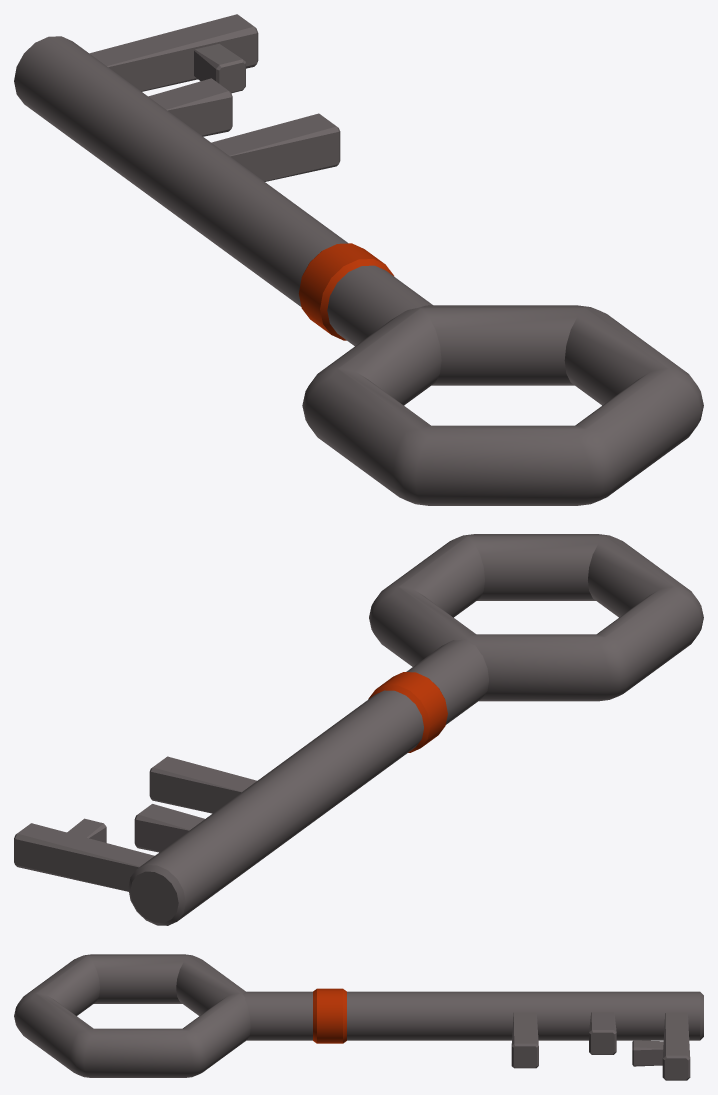
Rendered from klyuch.fbx.
The picture shows the model from 3 angles, top to bottom: view 1: azimuth 30°, elevation 25°; view 2: azimuth 150°, elevation 25°; view 3: azimuth 270°, elevation 25°; orthographic projection. The views are drawn at different scales.
Parts seen in each view (by area): view 1: Cube.001; view 2: Cube.001; view 3: Cube.001.
Boxes of the visible parts, x1,y1,x2,y2 form: Cube.001: (14, 14, 703, 505); Cube.001: (14, 534, 703, 925); Cube.001: (14, 954, 703, 1080).
Bounding box in the file's own units: 0.8923 × 0.2053 × 2.58.
